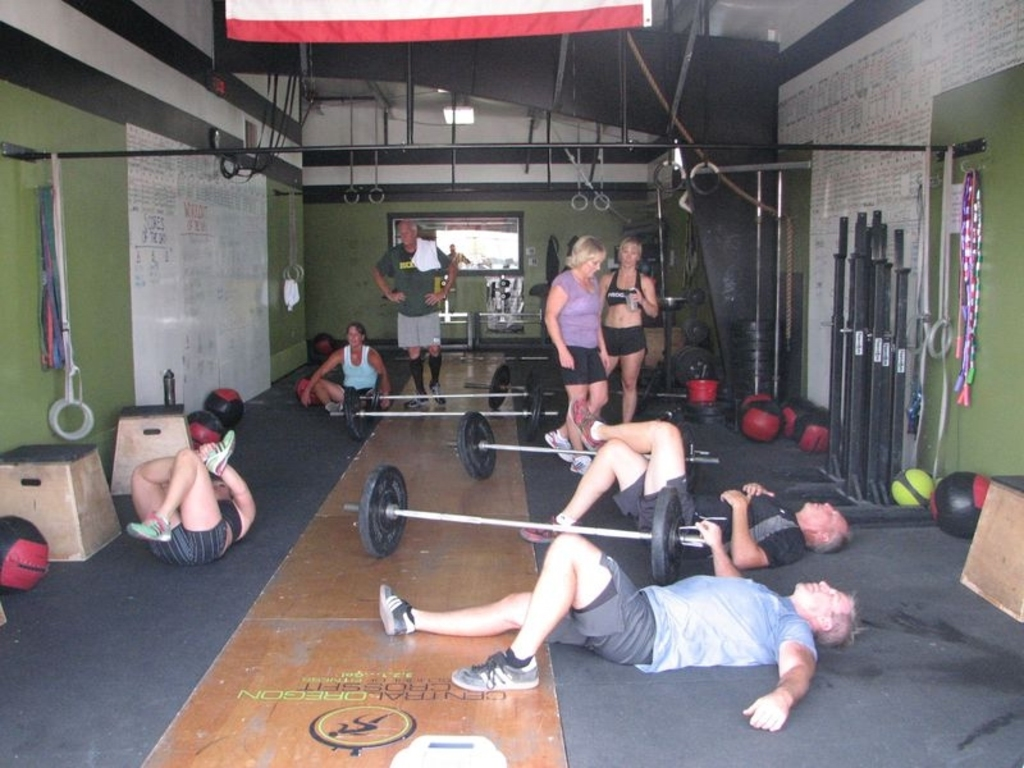Person: (376, 519, 867, 733), (515, 395, 851, 573), (125, 430, 257, 565), (542, 234, 613, 476), (372, 219, 461, 410), (603, 234, 662, 425), (301, 321, 393, 412), (446, 240, 473, 270)
